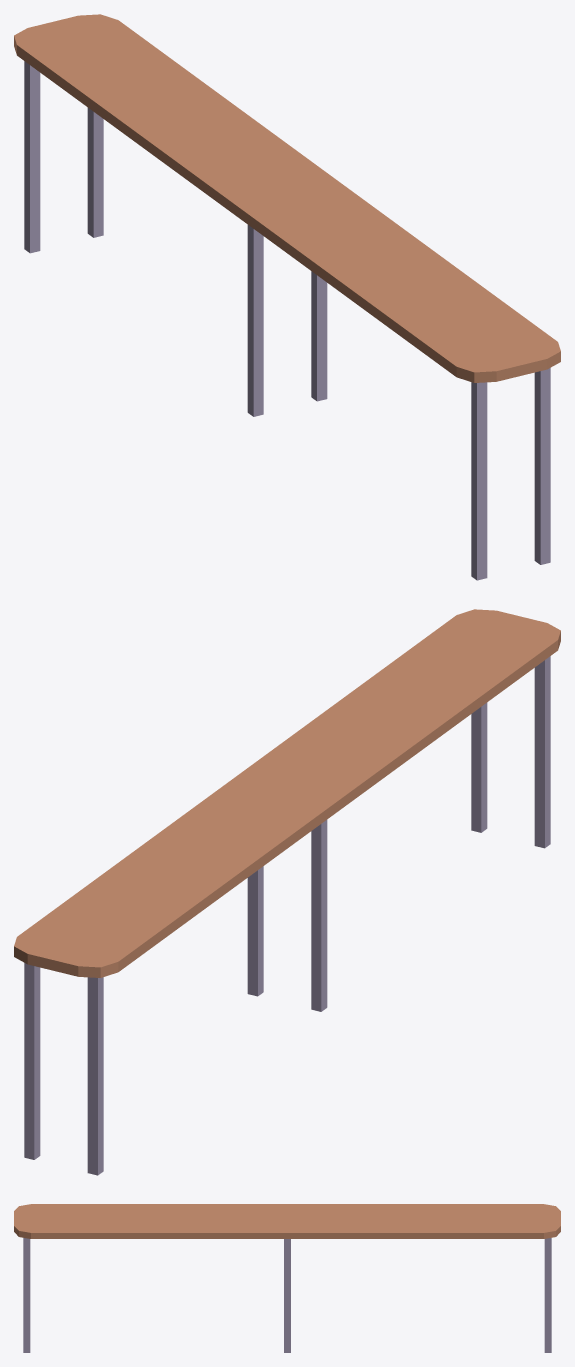
The model's file is long-table.glb.
3 renders of one model, top to bottom at view 1: azimuth 30°, elevation 25°; view 2: azimuth 150°, elevation 25°; view 3: azimuth 270°, elevation 25°, orthographic. The views are drawn at different scales.
Visible parts, largest first — view 1: Plane; view 2: Plane; view 3: Plane.
Part boxes in pixels (x1=…): Plane: x1=14, y1=14, x2=560, y2=580; Plane: x1=14, y1=609, x2=560, y2=1175; Plane: x1=14, y1=1204, x2=560, y2=1352.
Size of the model in its own units: 0.5 by 1 by 4.
